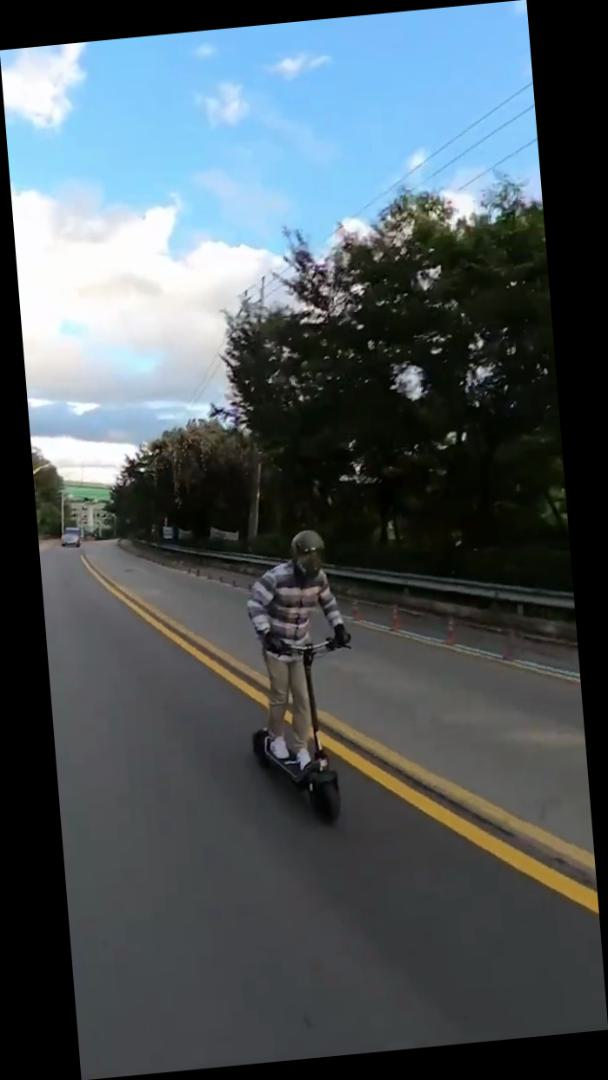helmet: (233, 520, 368, 834)
